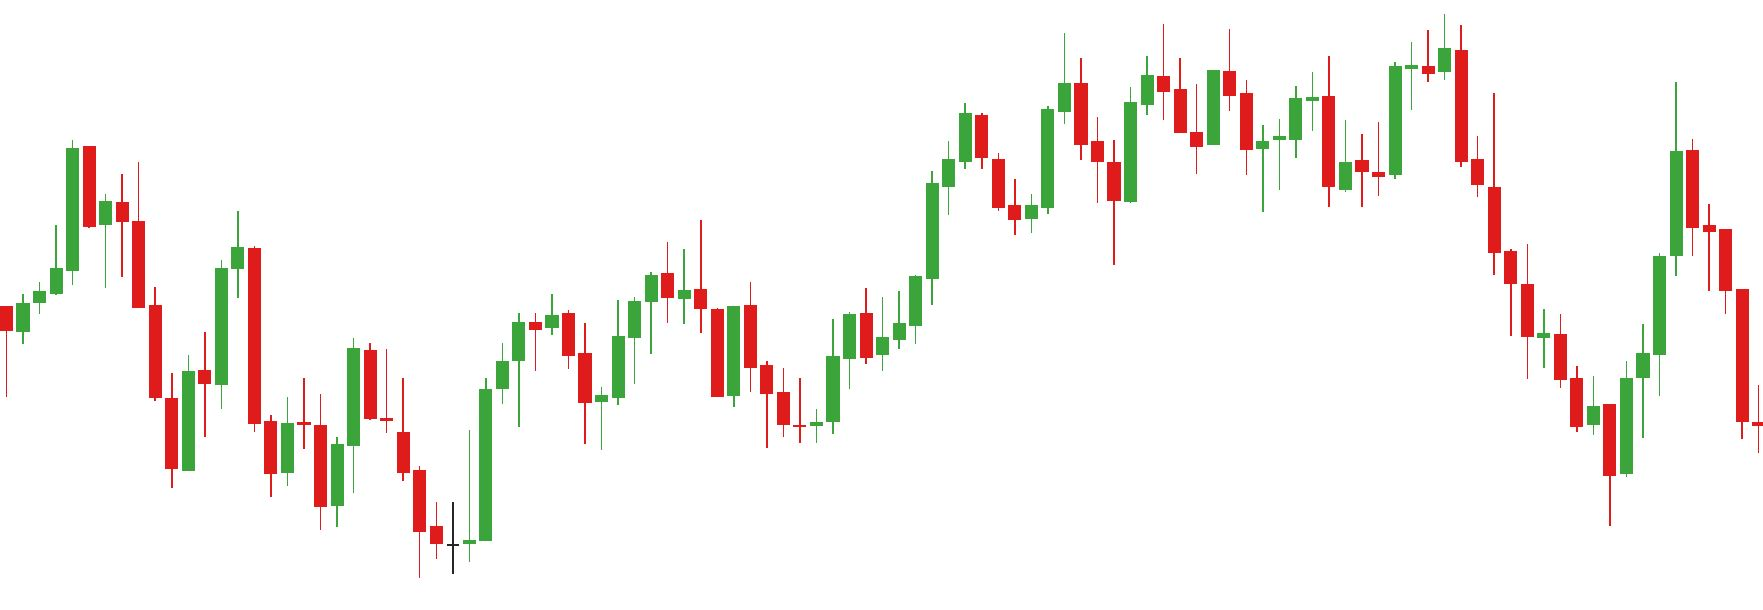buy: (310, 395, 497, 579), (594, 310, 777, 450), (989, 151, 1124, 265)
sell: (1483, 82, 1702, 300), (1316, 16, 1435, 148)
